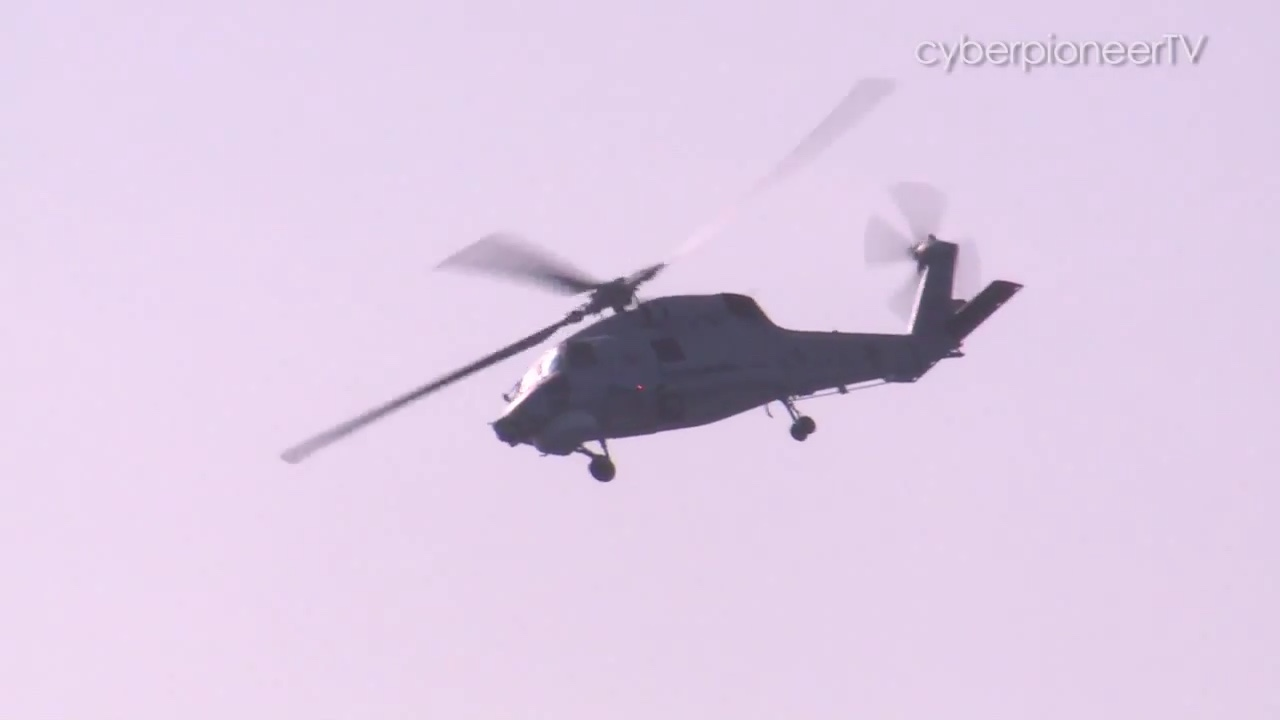seahawk: (274, 75, 1031, 491)
